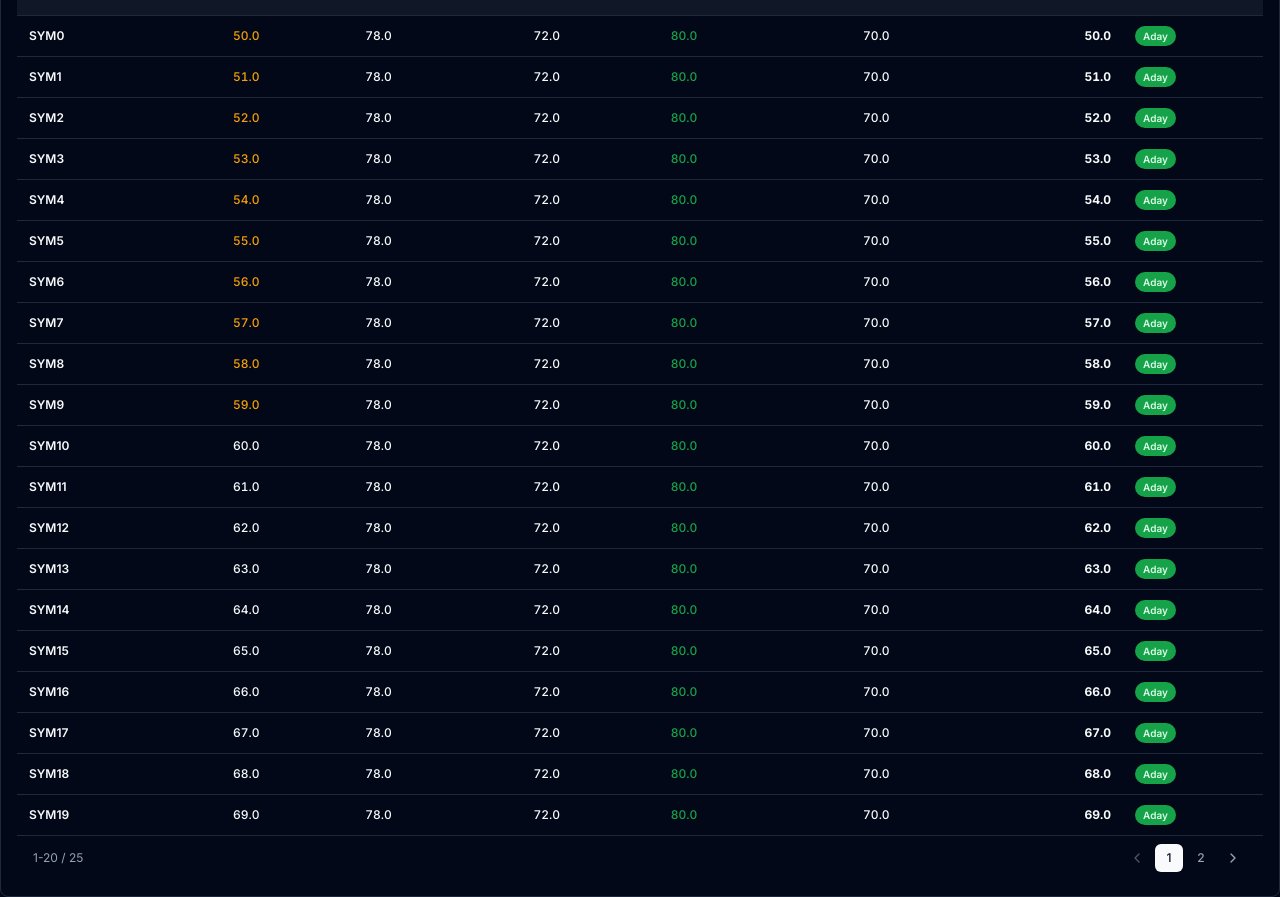
Scenario: ScannerTable › navigates pages
The width and height of the screenshot is (1280, 897).
(page scrolled)
Click the button named "Sonraki sayfa" at (1233, 858), box x1=1219 y1=844 x2=1247 y2=872
(page scrolled)
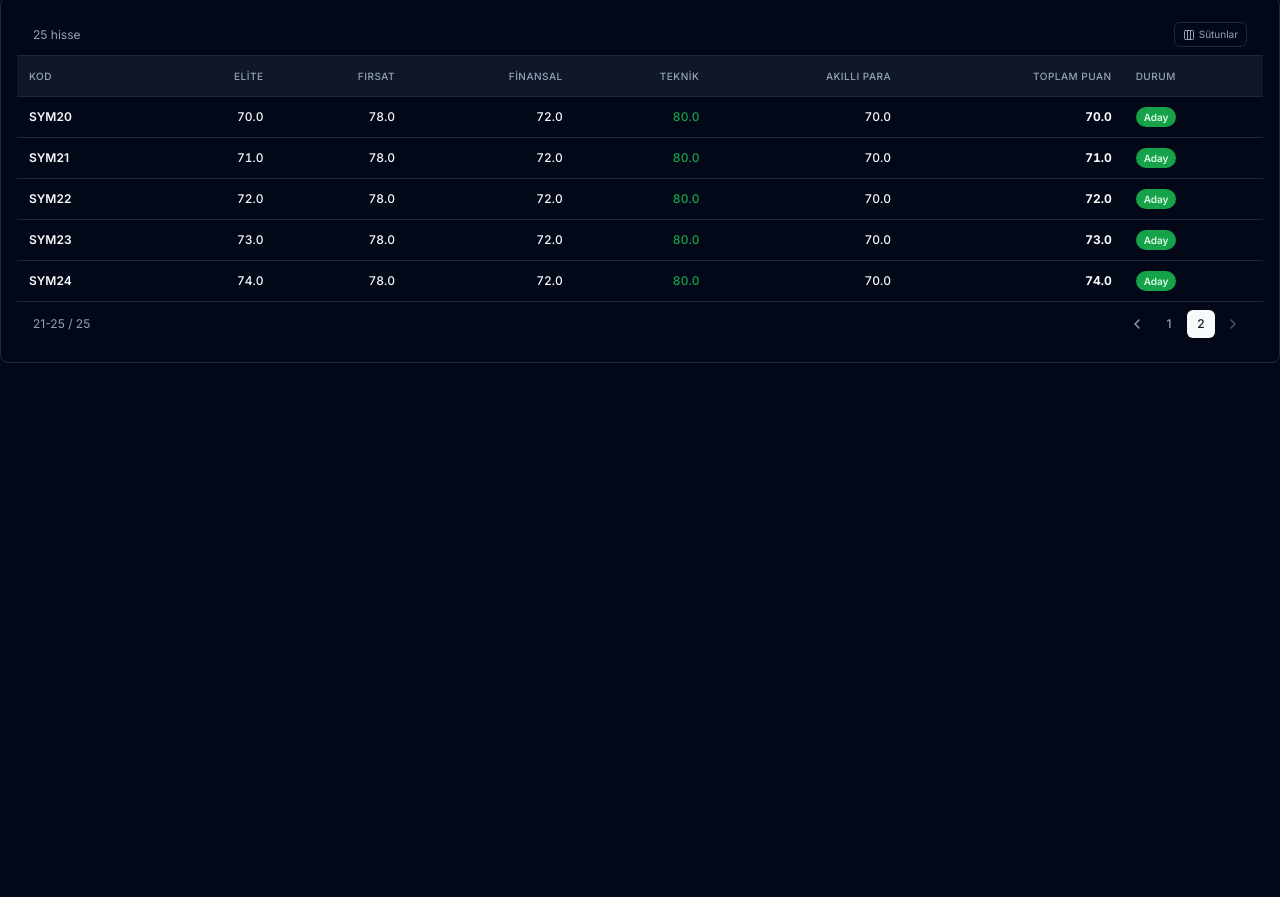
Check: the text "21-25 / 25" is shown, box x1=33 y1=316 x2=90 y2=332
